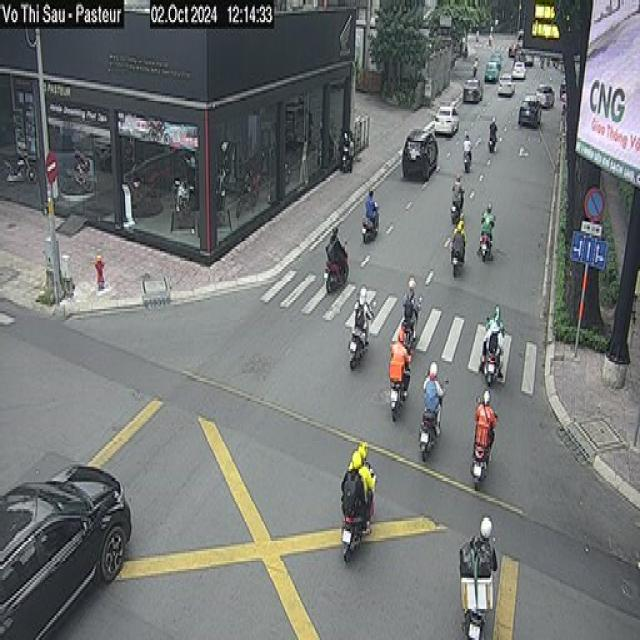car: (0, 462, 131, 638), (518, 93, 542, 127), (434, 104, 458, 136), (462, 78, 482, 102), (535, 82, 554, 107), (497, 71, 515, 96), (484, 60, 498, 82), (512, 60, 526, 78)
motorcycle: (418, 378, 448, 462), (348, 309, 372, 369), (389, 367, 410, 422), (447, 236, 465, 276), (361, 209, 379, 242), (478, 225, 493, 262)
person: (458, 516, 498, 638), (472, 389, 498, 475), (480, 302, 504, 378), (422, 360, 443, 436), (389, 329, 411, 400), (323, 224, 348, 286), (352, 285, 372, 351), (401, 276, 420, 338), (480, 200, 495, 253), (451, 171, 464, 218), (365, 189, 379, 231), (461, 131, 471, 171), (488, 116, 498, 151)
